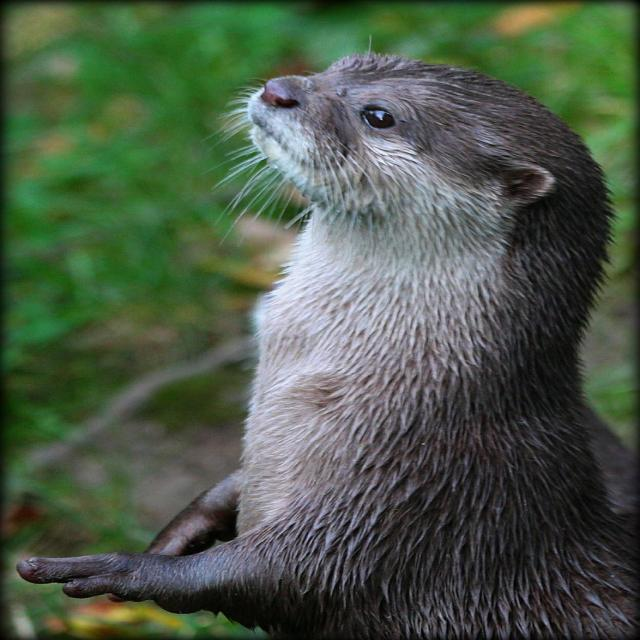otter: (22, 54, 635, 635)
